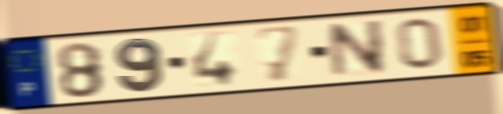0: (394, 15, 448, 73)
4: (191, 29, 241, 89)
7: (253, 23, 303, 86)
8: (55, 40, 106, 100)
9: (112, 35, 167, 96)
N: (326, 17, 388, 81)
